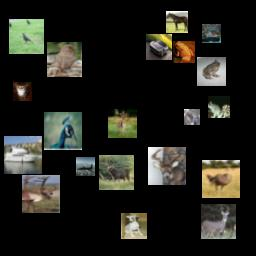airplane: (76, 157, 95, 176)
automobile: (146, 34, 172, 60)
bird: (202, 160, 240, 198), (44, 112, 82, 150), (47, 42, 82, 77), (9, 19, 44, 54), (184, 109, 200, 125)
cat: (13, 82, 32, 101)
deer: (22, 175, 60, 213), (148, 147, 186, 185), (99, 155, 134, 190), (201, 204, 236, 239), (108, 109, 137, 138)
dog: (121, 213, 147, 239)
frog: (197, 57, 226, 86), (208, 96, 230, 118), (173, 41, 195, 63)
ship: (4, 136, 42, 174), (202, 24, 221, 43)
